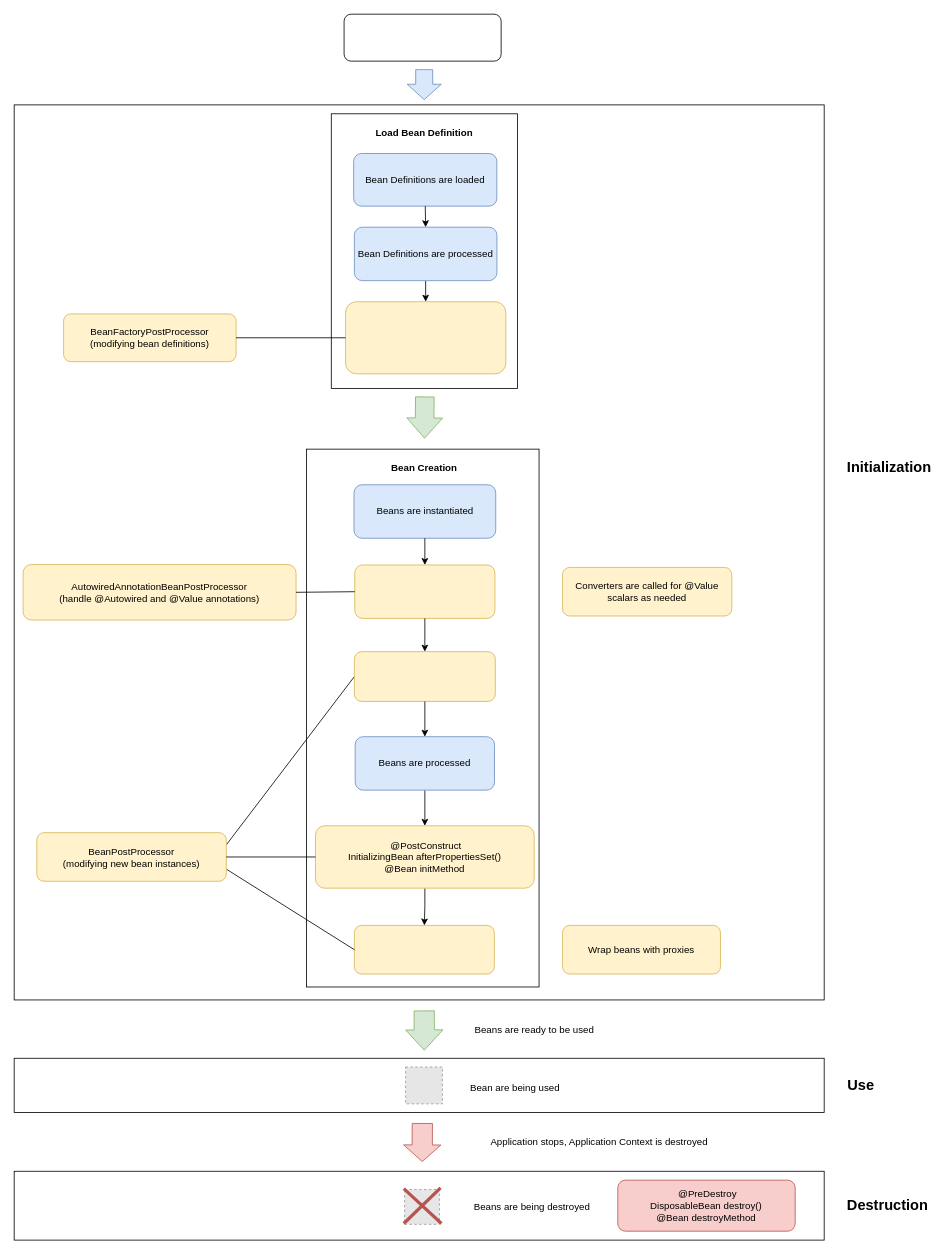
Some shapes in this 949 by 1255 pixel diagram are drawn without their labels. Grey dashed boxes stand in for pictures. The shapes that lost their labels are listed below. From the top down, each one's centre as x and y in pixels, then its label:
the point at 422,37: Application Context is created
the point at 425,337: @Value placeholders are injected before @Configuration class are instantiated
the point at 424,591: Dependencies are injected (setters are called)
the point at 424,676: Post Process Bean (before initialization)
the point at 424,949: Post Process Bean (after initialization)
